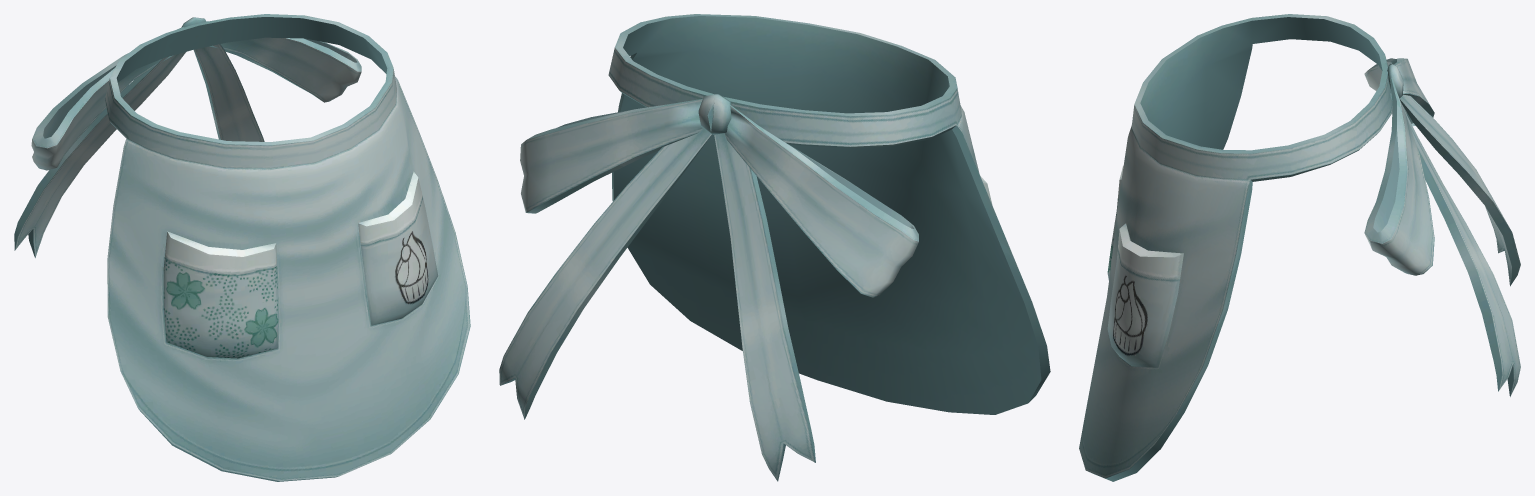
The model's file is ApronAmai.fbx.
The picture shows the model from 3 angles, left to right: view 1: azimuth 30°, elevation 25°; view 2: azimuth 150°, elevation 25°; view 3: azimuth 270°, elevation 25°; orthographic projection. The views are drawn at different scales.
Parts seen in each view (by area): view 1: BD_C_Apron_Female; view 2: BD_C_Apron_Female; view 3: BD_C_Apron_Female.
Part boxes in pixels (bbox=[...]): BD_C_Apron_Female: bbox=[14, 14, 470, 481]; BD_C_Apron_Female: bbox=[499, 14, 1050, 481]; BD_C_Apron_Female: bbox=[1079, 14, 1520, 481].
Size of the model in its own units: 34.57 by 33.94 by 35.07.
